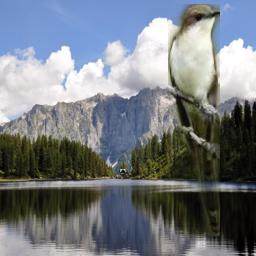Cuckoo: (168, 4, 220, 236)
